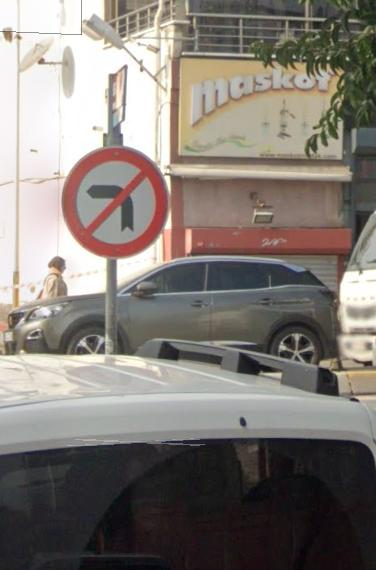leftturnsareforbidden: (59, 151, 172, 253)
